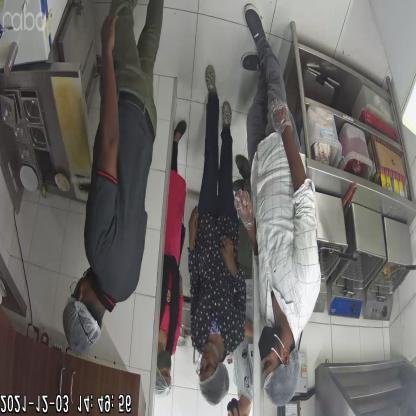no_apron: (251, 140, 309, 321), (190, 213, 239, 342)
